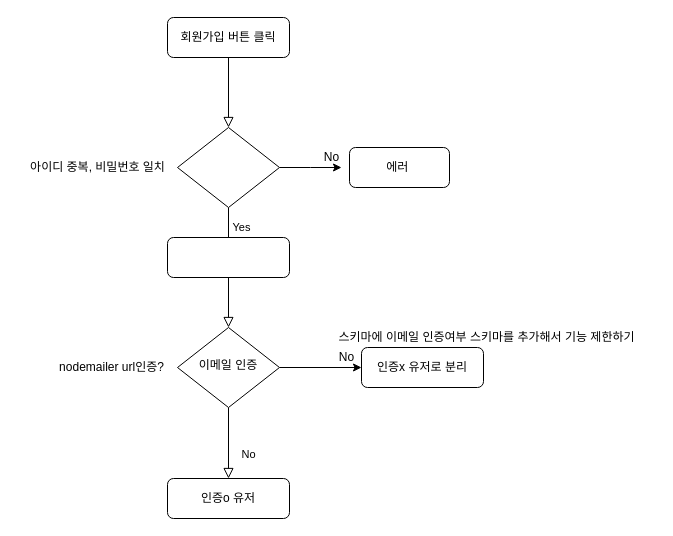
Some shapes in this 673 by 536 pixel diagram are drawn without their labels. The centre of each missing label's shape, as x and y in pixels:
입력 검증: point 228,167
회원 가입 완료: point 228,257
